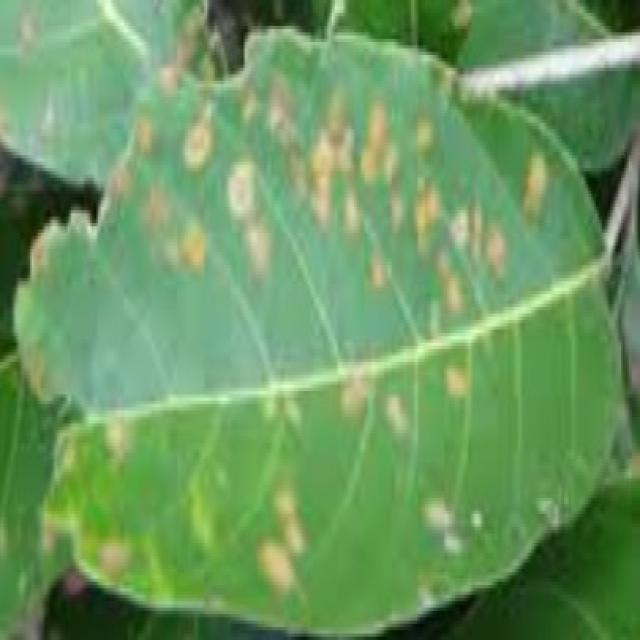Algal Leaf Spot: (308, 71, 366, 235), (227, 141, 277, 298), (255, 487, 315, 602), (142, 194, 209, 284), (452, 190, 512, 278), (374, 87, 404, 204), (412, 163, 444, 243), (524, 134, 548, 228), (178, 108, 217, 162), (341, 366, 372, 427), (384, 383, 410, 444), (442, 362, 472, 404), (417, 104, 438, 160)
